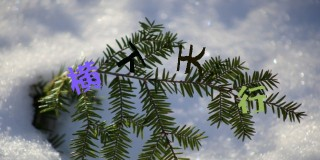下: (119, 44, 143, 74)
天: (175, 42, 208, 78)
横: (69, 60, 103, 94)
行: (238, 83, 268, 114)
